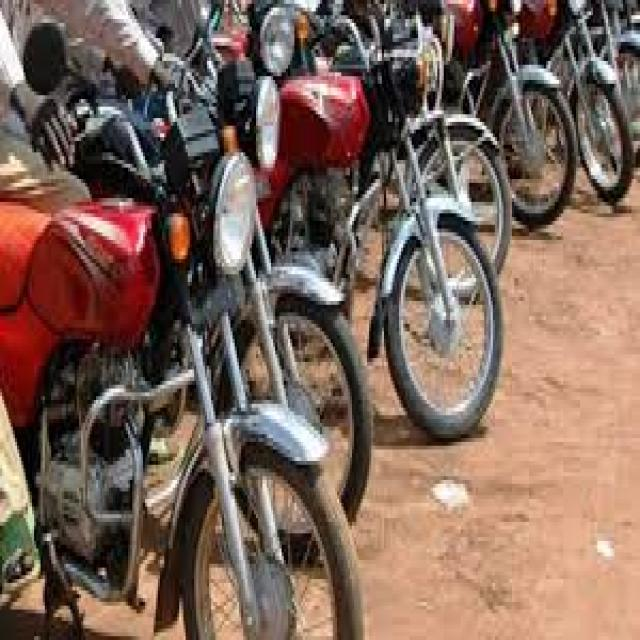bodaboda: (6, 0, 378, 640)
